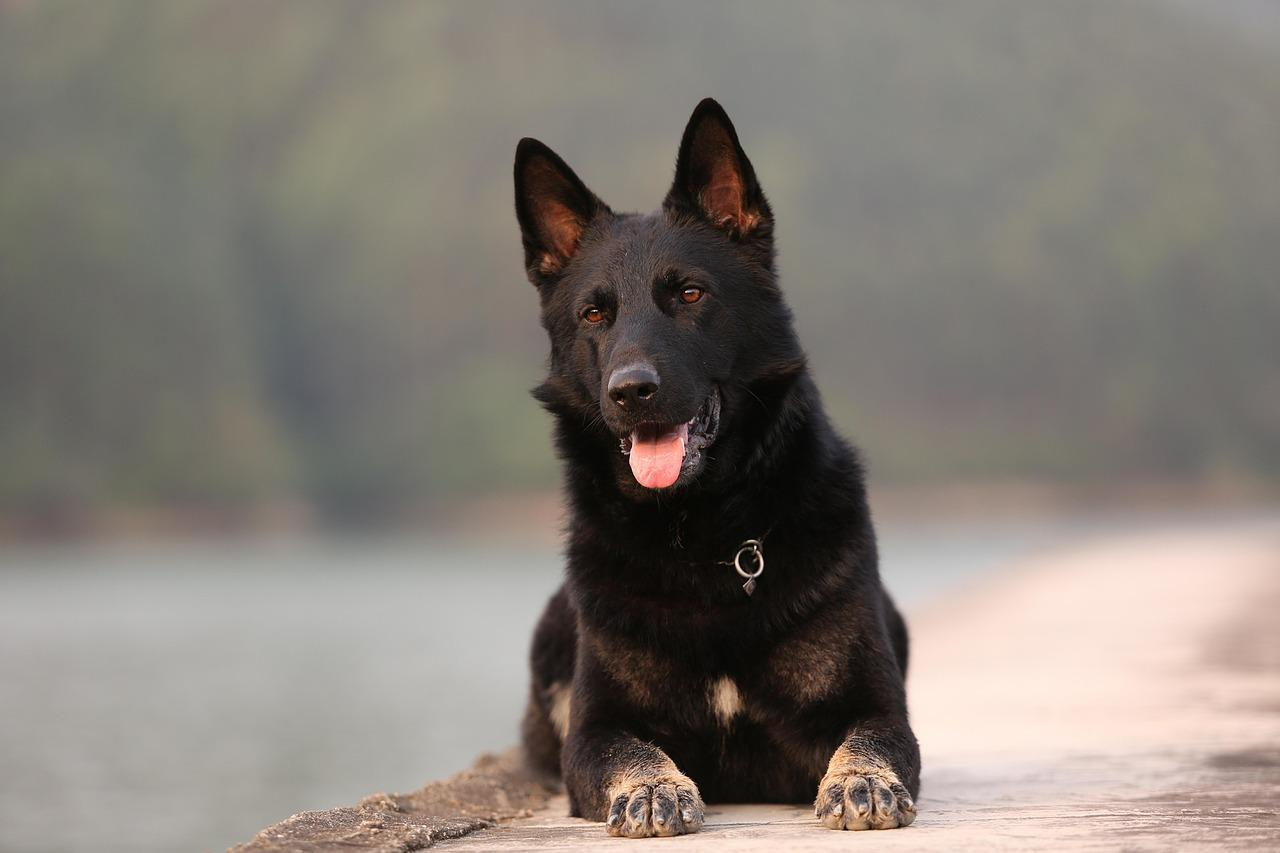german_shepherd: (489, 80, 802, 522)
